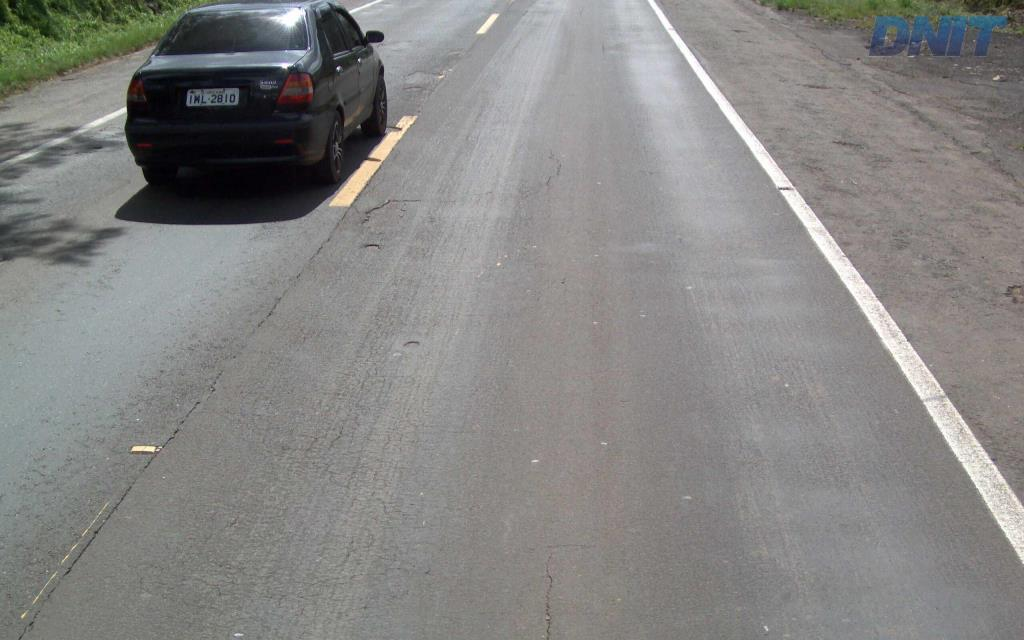pothole: (347, 194, 434, 238), (355, 236, 386, 256)
